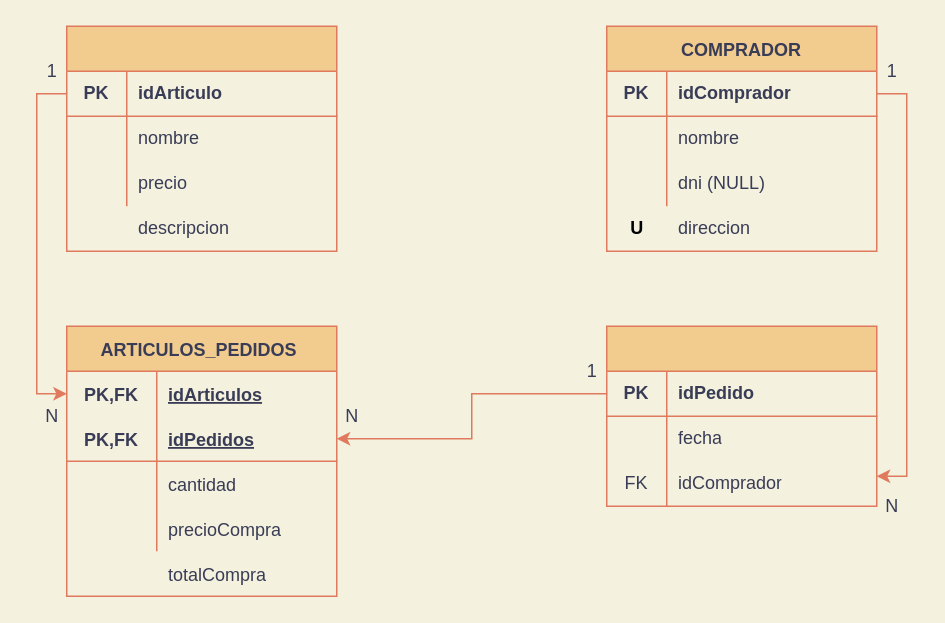
Some shapes in this 945 by 623 pixel diagram are drawn without their labels. Each missing label, with the box of its shape:
ARTICULOS: (65, 25, 337, 251)
PEDIDOS: (605, 325, 877, 506)
